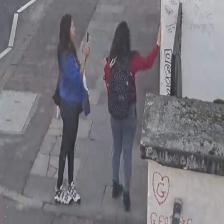person: (104, 21, 160, 212), (54, 14, 90, 205)
